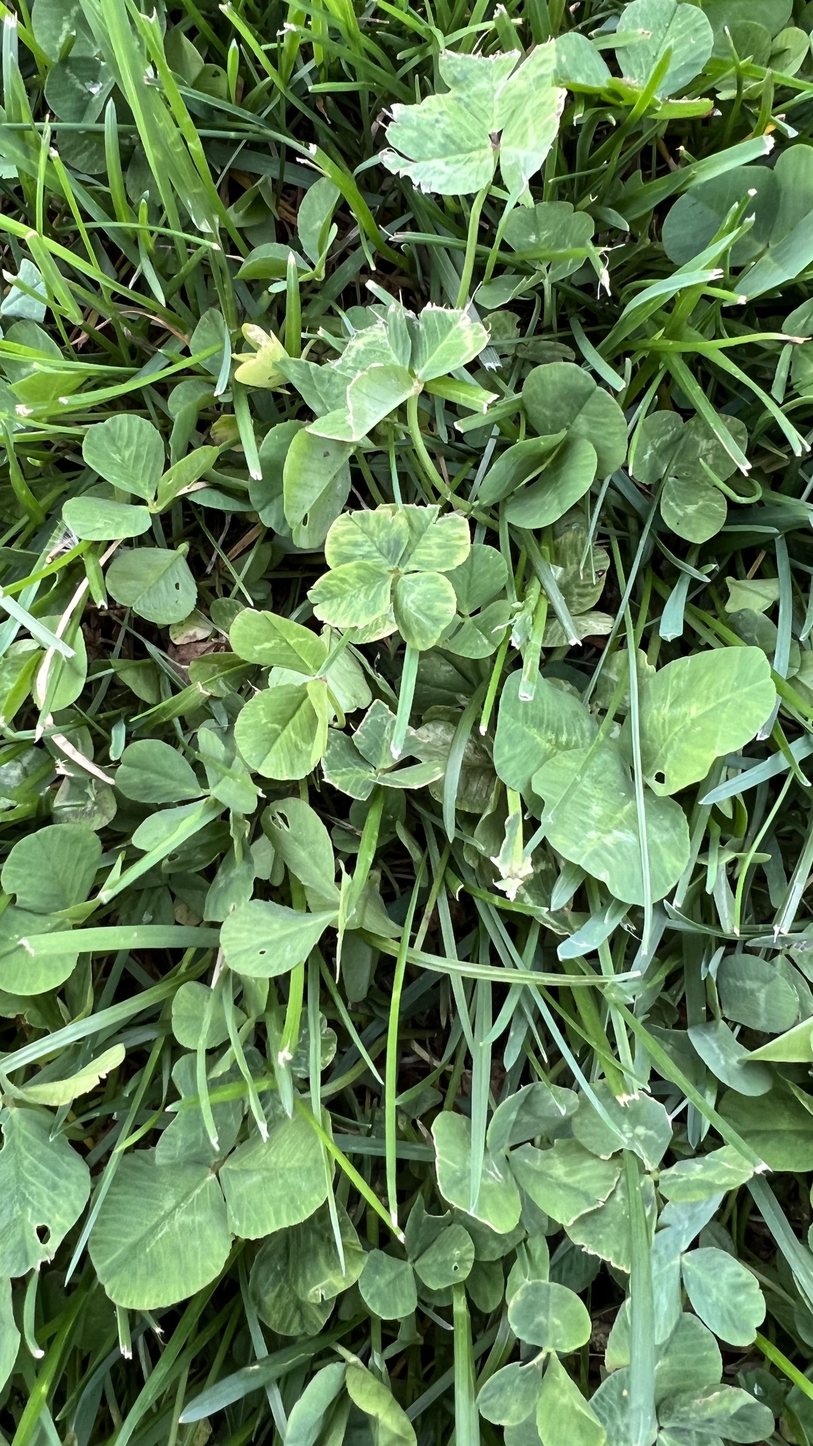4-Leaf-Clovers: (280, 606, 361, 888)
